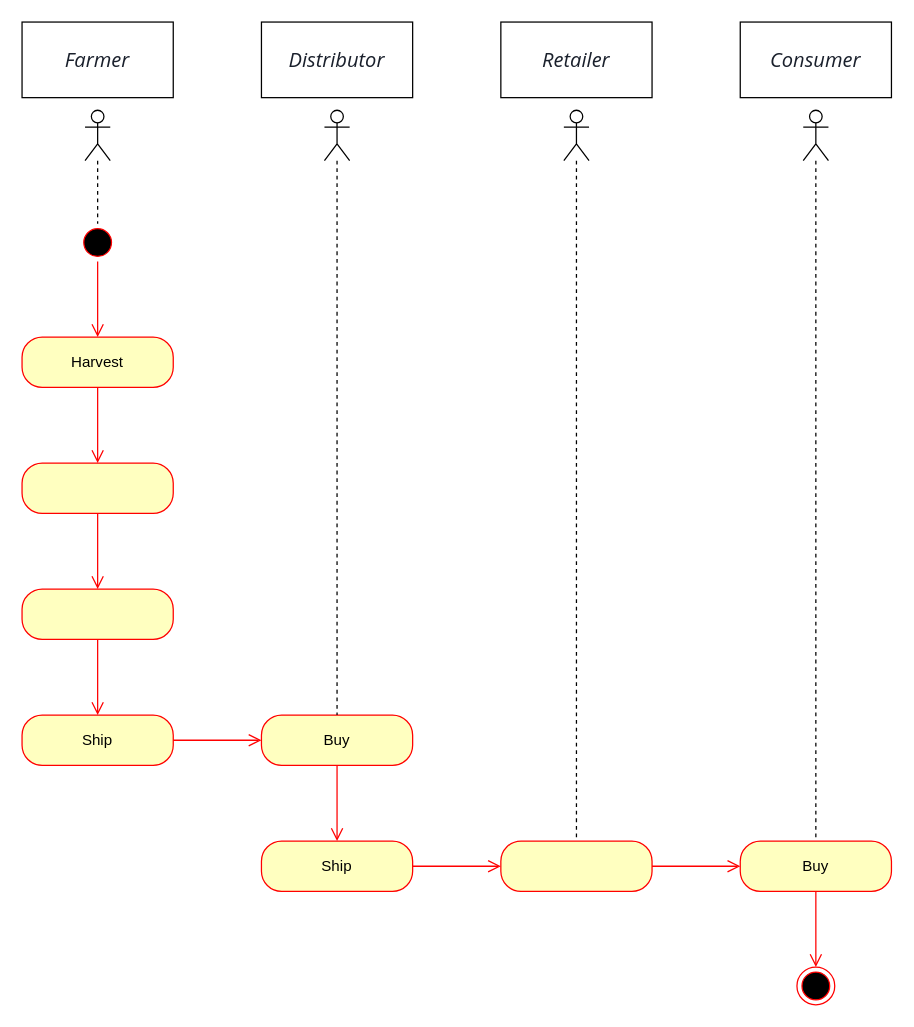
The diagram is 914 pixels wide and 1027 high, and some of its shapes have lost their labels. The shapes that lost their labels are listed below. From the top down, each one's centre as x and y in pixels, then its label:
(97,487): Process
(97,613): Pack
(576,865): Receive
